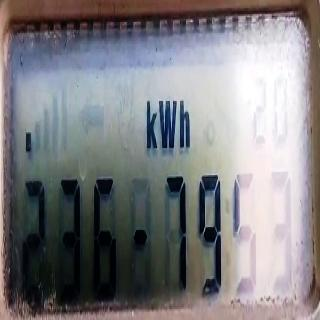-: (132, 224, 149, 250), (24, 128, 31, 155)
2: (16, 174, 49, 312)
3: (56, 169, 84, 310), (268, 164, 296, 301)
5: (230, 162, 259, 304)
6: (90, 166, 119, 313)
7: (162, 166, 192, 302)
9: (196, 162, 223, 303)
